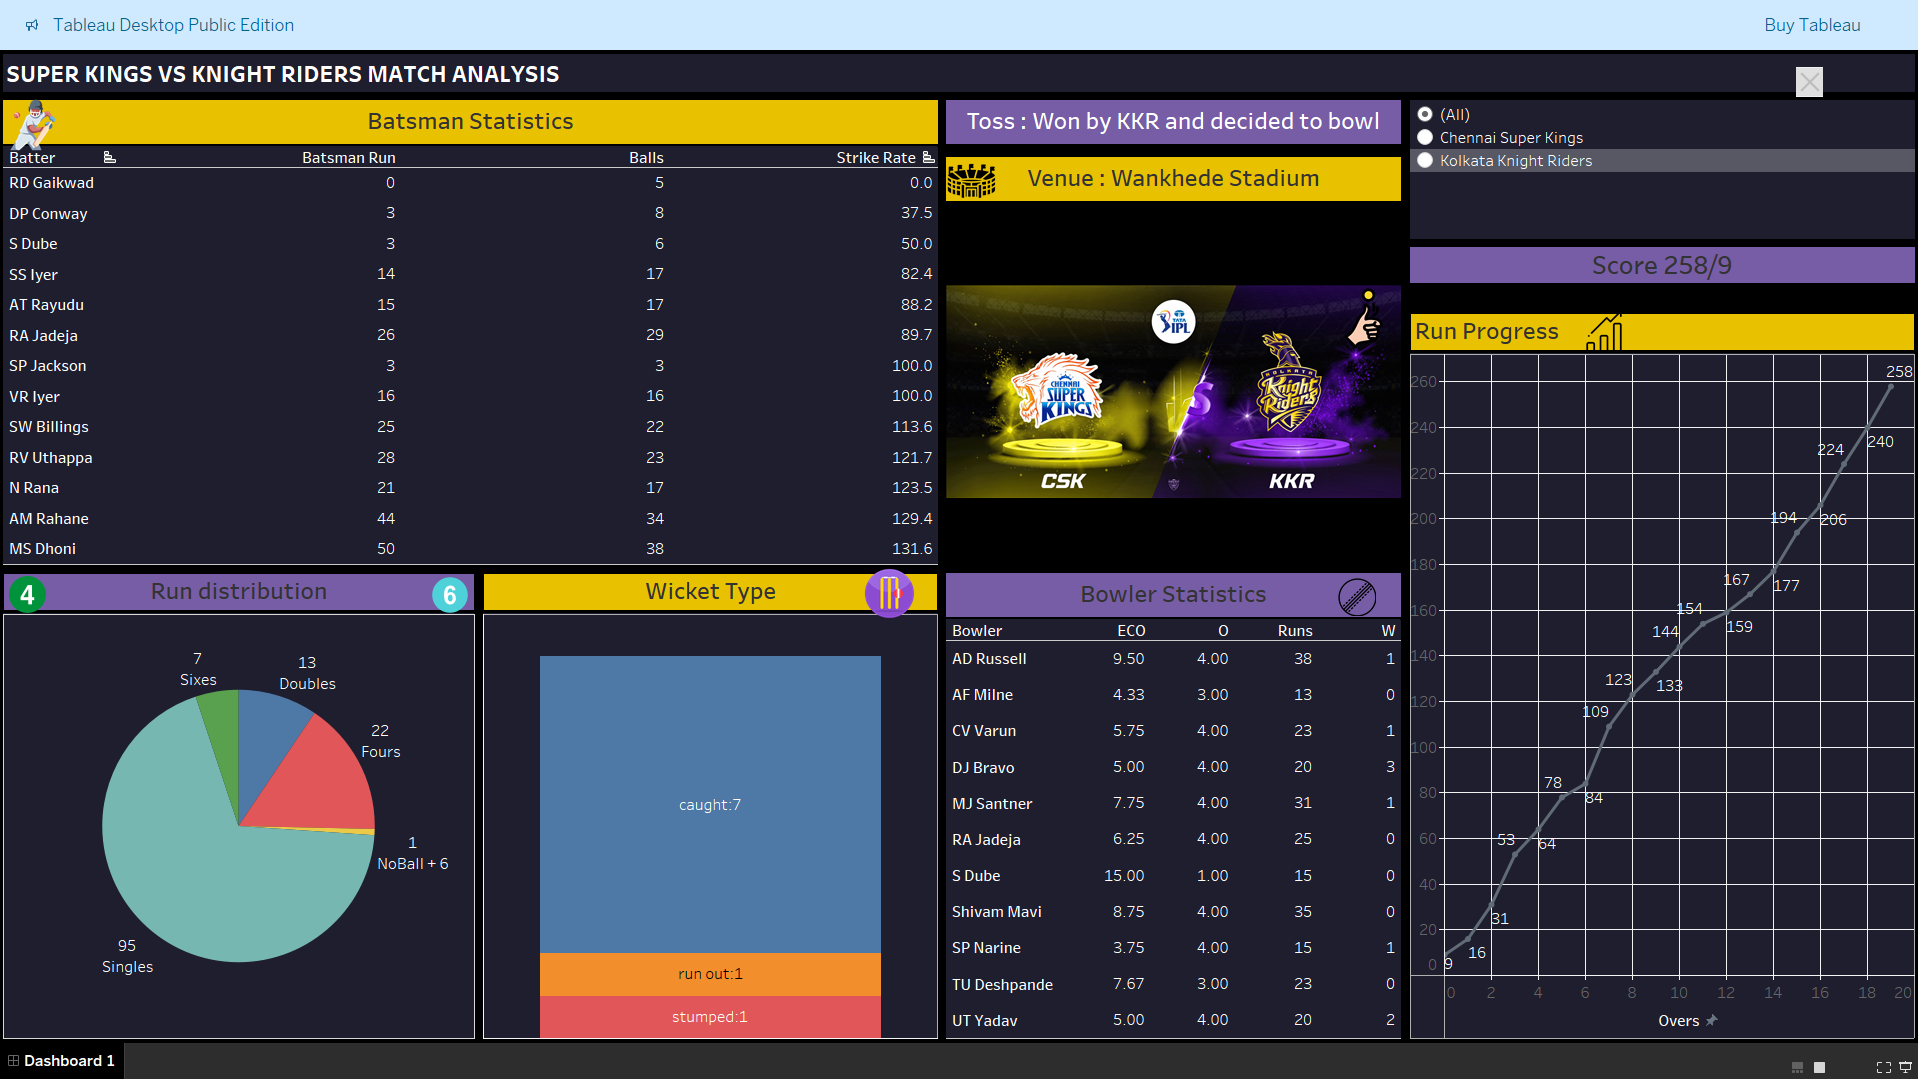

This screenshot's page, from the dashboard's own definition file:
{"tool":"tableau","page":{"name":"Dashboard 1","canvas":[1000,1000],"units":"permille","ordinal":0},"visuals":[{"type":"title","box":[0,0,1000,49.9]},{"type":"dashboard-object","box":[935.9,17.5,14.4,30]},{"type":"worksheet","title":"All bastman runs","mark":"Automatic","rows":["batter"],"cols":["batsman_run"],"box":[0,49.9,500,475]},{"type":"worksheet","title":"Wicket Type","mark":"Automatic","rows":["kind"],"cols":["Calculation_1711649340890206210"],"box":[500,49.9,237.5,475]},{"type":"worksheet","title":"Run Progress per over csk","mark":"Line","rows":["total_run"],"cols":["overs"],"box":[737.5,49.9,262.5,495.8]},{"type":"worksheet","title":"Run distribution","mark":"Bar","rows":["Calculation_1711649340893560835"],"cols":["Calculation_1711649340893560835"],"box":[0,525,250,475]},{"type":"worksheet","title":"KKR bowlers","mark":"Automatic","rows":["bowler"],"box":[250,525,125,475]},{"type":"worksheet","title":"CSK Bowlers","mark":"Automatic","rows":["bowler"],"box":[375,525,125,475]},{"type":"worksheet","title":"Economy Rate and wickets","mark":"Automatic","rows":["bowler"],"cols":["Calculation_1711649340888072193"],"box":[500,525,237.5,475]},{"type":"worksheet","title":"Run Progress per over kkr","mark":"Line","rows":["total_run"],"cols":["overs"],"box":[737.5,545.7,262.5,454.3]},{"type":"image","param":"Image/c8e9e65d1d2f9d2472dd64a875c5c238.jpg","box":[253.5,745.3,125.5,162.3]},{"type":"image","param":"Image/86b2be31f00318e9934b109fd02ad088.jpg","box":[377.2,749.1,96.6,161.1]},{"type":"worksheet","title":"Scorecard","mark":"Automatic","box":[254.1,918.9,220.3,82.4]},{"type":"legend","title":"Economy Rate and wickets","param":"[federated.0r9t0uh0xn6lzi15q294002xgn3w].[sum:isWicketDelivery:qk]","box":[502.1,928.8,71.8,53.7]}]}

Visuals, with their boxes on the dashboard's canvas, which has no fixed pixel size, in thousandths of its width and height (x1, y1, x2, y2). These are canvas units, not pixel positions in the 1918x1079 screenshot, which may show the page scaled, cropped or inside an application window:
title: (0,0,1000,50)
dashboard-object: (936,18,950,48)
"All bastman runs" worksheet: (0,50,500,525)
"Wicket Type" worksheet: (500,50,738,525)
"Run Progress per over csk" worksheet (Line marks): (738,50,1000,546)
"Run distribution" worksheet (Bar marks): (0,525,250,1000)
"KKR bowlers" worksheet: (250,525,375,1000)
"CSK Bowlers" worksheet: (375,525,500,1000)
"Economy Rate and wickets" worksheet: (500,525,738,1000)
"Run Progress per over kkr" worksheet (Line marks): (738,546,1000,1000)
image: (254,745,379,908)
image: (377,749,474,910)
"Scorecard" worksheet: (254,919,474,1001)
"Economy Rate and wickets" legend: (502,929,574,982)
